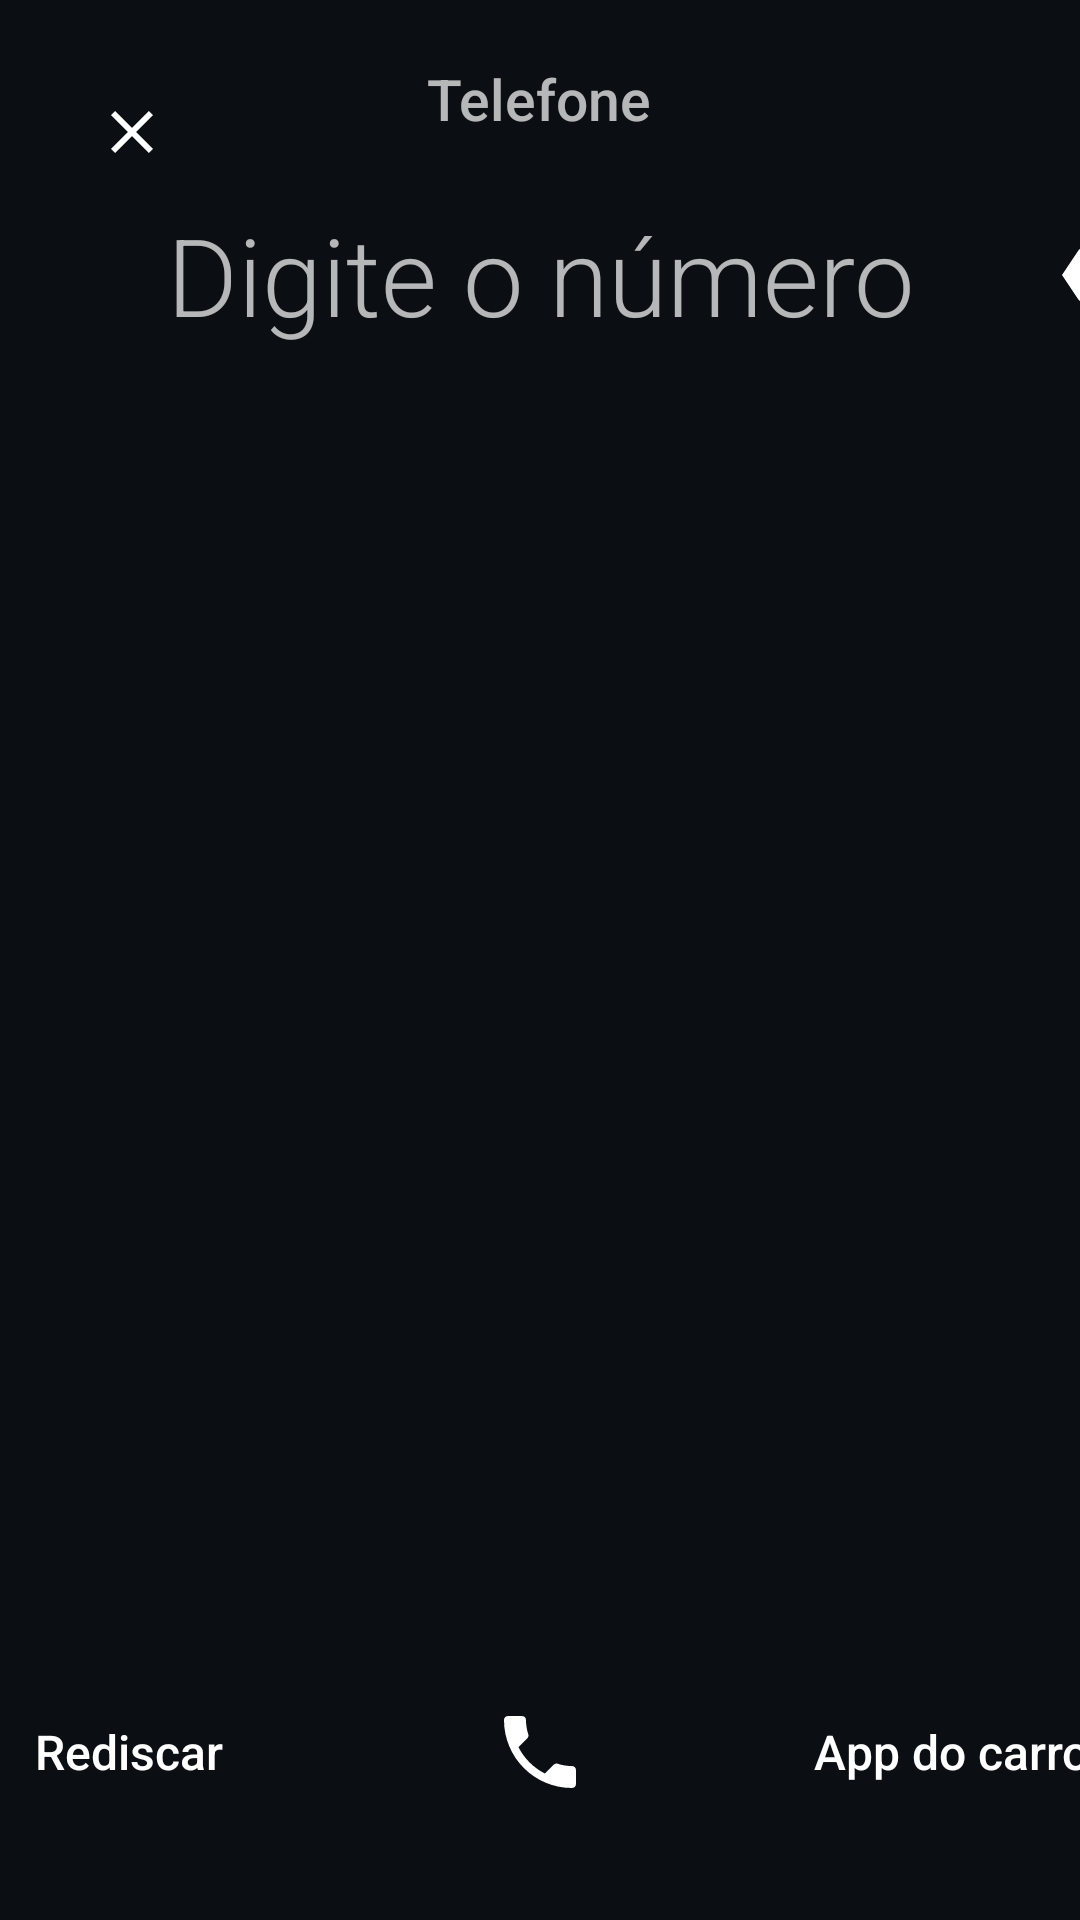

Named icons in this screenshot (1080*1920) and their centers, [x,y]:
Fechar: [132,132]
Ligar: [540,1752]
